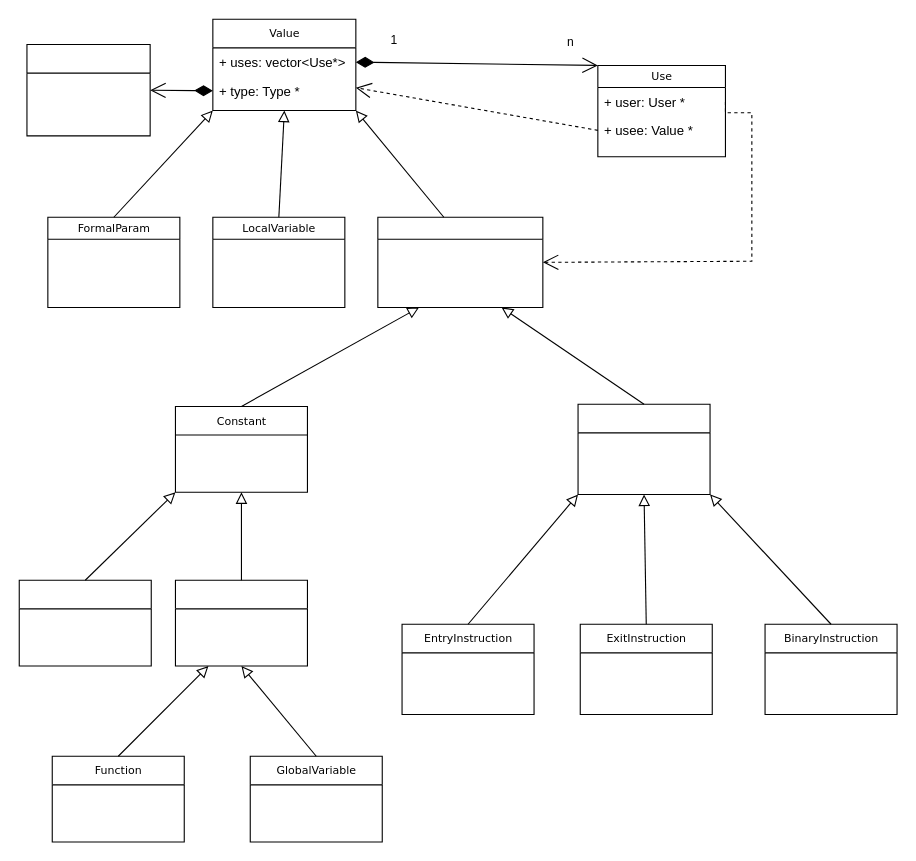
This 916x861 diagram has some shape labels left out. The centre of each missing label's shape, as x and y in pixels:
"ConstInt" goes at (84,622).
"GlobalValue" goes at (240,622).
"Instruction" goes at (643,448).
"Type" goes at (88,89).
"User" goes at (460,261).
